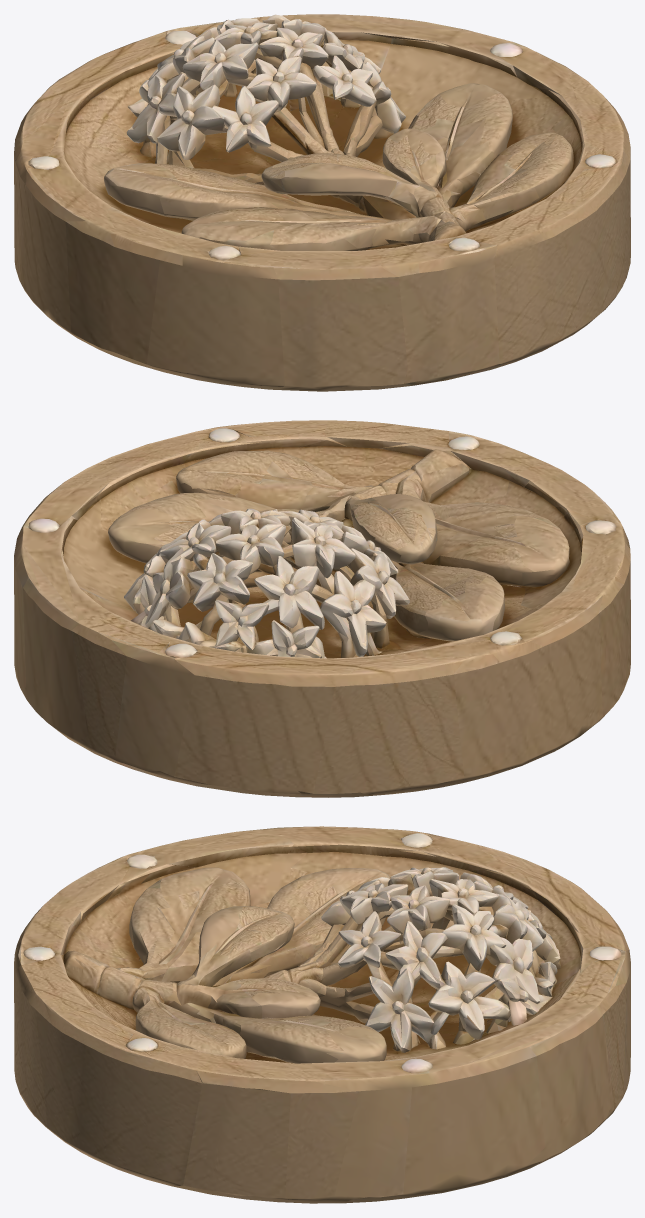
The picture shows the model from 3 angles, top to bottom: view 1: azimuth 30°, elevation 25°; view 2: azimuth 150°, elevation 25°; view 3: azimuth 270°, elevation 25°; orthographic projection.
Visible parts, largest first — view 1: Mesh_0; view 2: Mesh_0; view 3: Mesh_0.
Part boxes in pixels (bbox=[...]): Mesh_0: bbox=[14, 14, 630, 391]; Mesh_0: bbox=[14, 420, 630, 797]; Mesh_0: bbox=[14, 826, 630, 1203].
Size of the model in its own units: 1.9 by 0.6561 by 1.9.
Materials: 1 (1 with a texture image).
